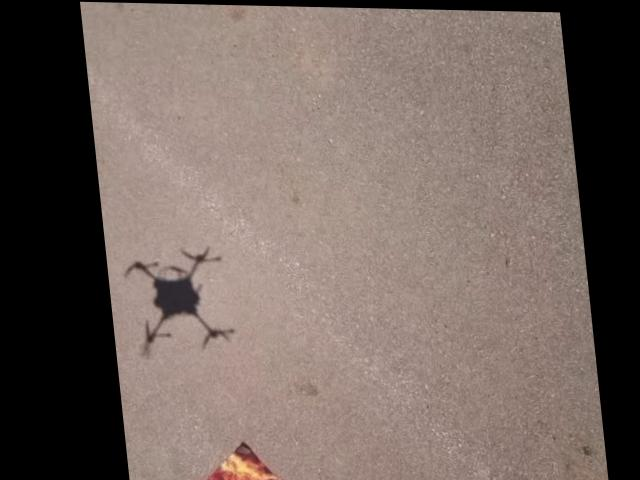fire-poster: (151, 438, 303, 480)
